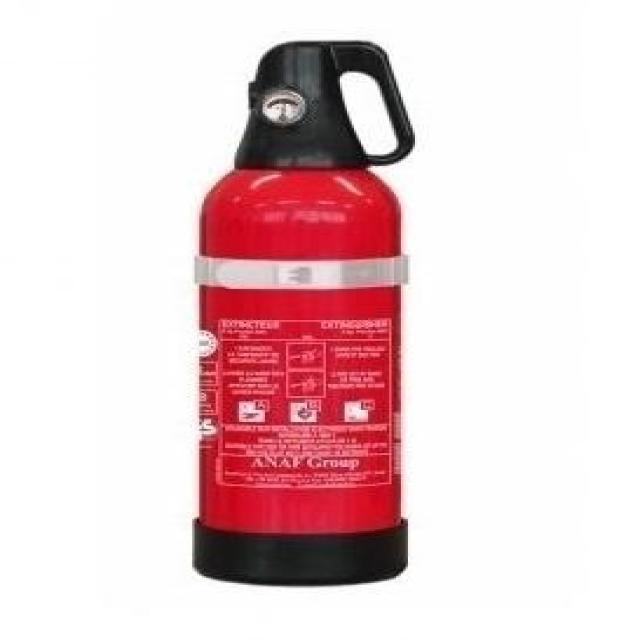fire_extinguisher: (178, 29, 427, 594)
